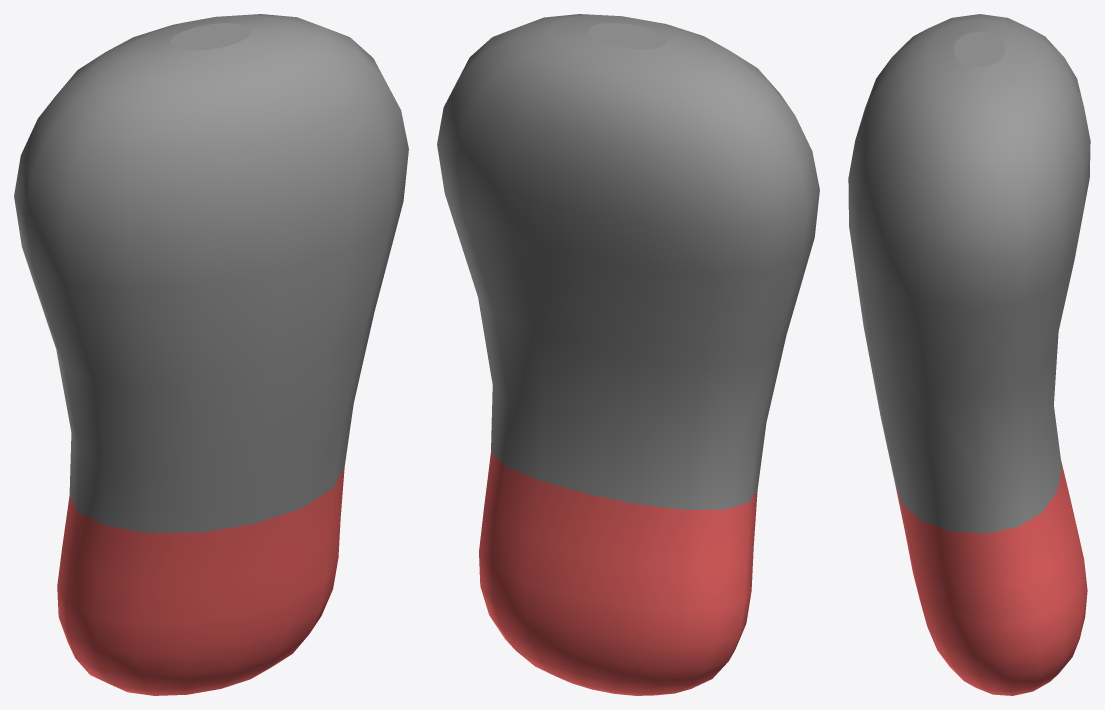
Rendered from Body.FBX.
3 renders of one model, left to right at view 1: azimuth 30°, elevation 25°; view 2: azimuth 150°, elevation 25°; view 3: azimuth 270°, elevation 25°, orthographic. The views are drawn at different scales.
Visible parts, largest first — view 1: Body; view 2: Body; view 3: Body.
Part boxes in pixels (x1=…): Body: x1=14, y1=14, x2=408, y2=695; Body: x1=437, y1=14, x2=819, y2=695; Body: x1=848, y1=14, x2=1090, y2=695.
Bounding box in the file's own units: 0.5892 × 0.997 × 0.3512.
